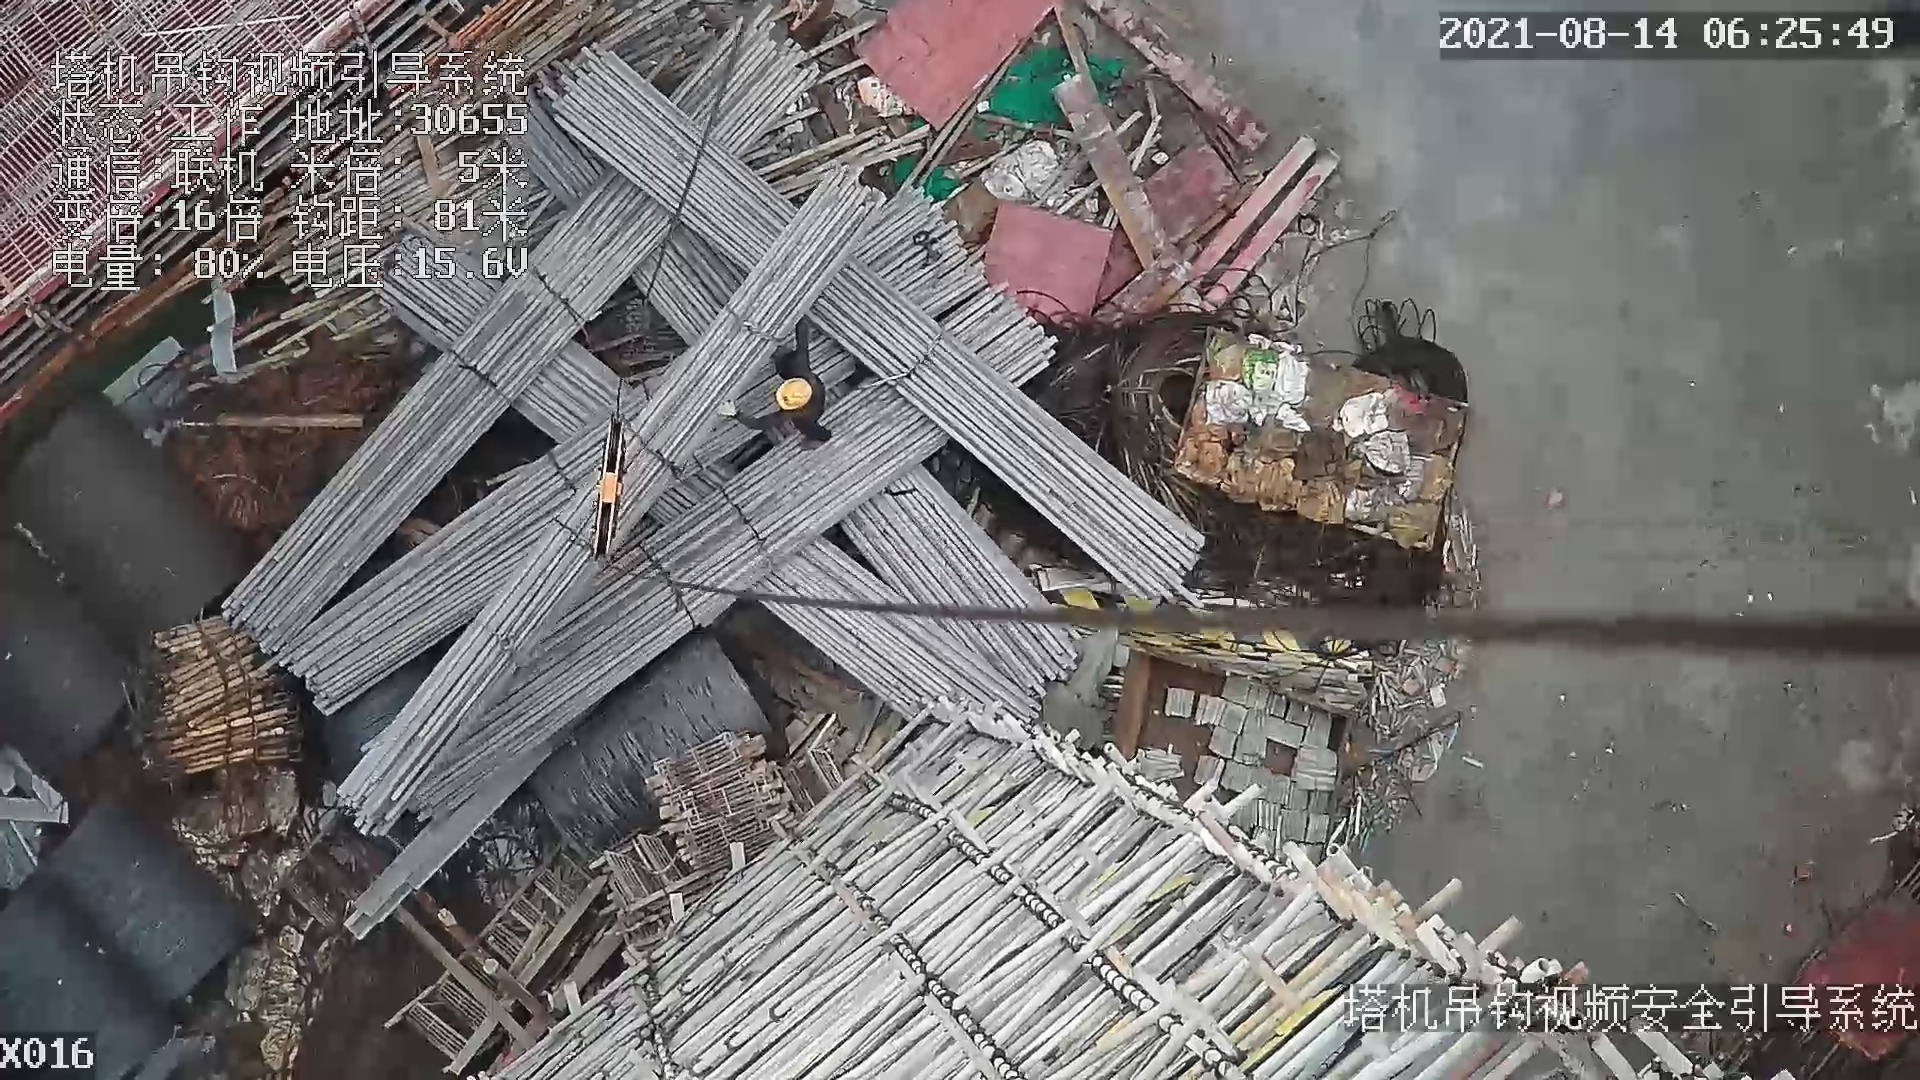helmet: (770, 378, 817, 413)
hook: (585, 415, 629, 571)
person: (722, 330, 845, 450)
